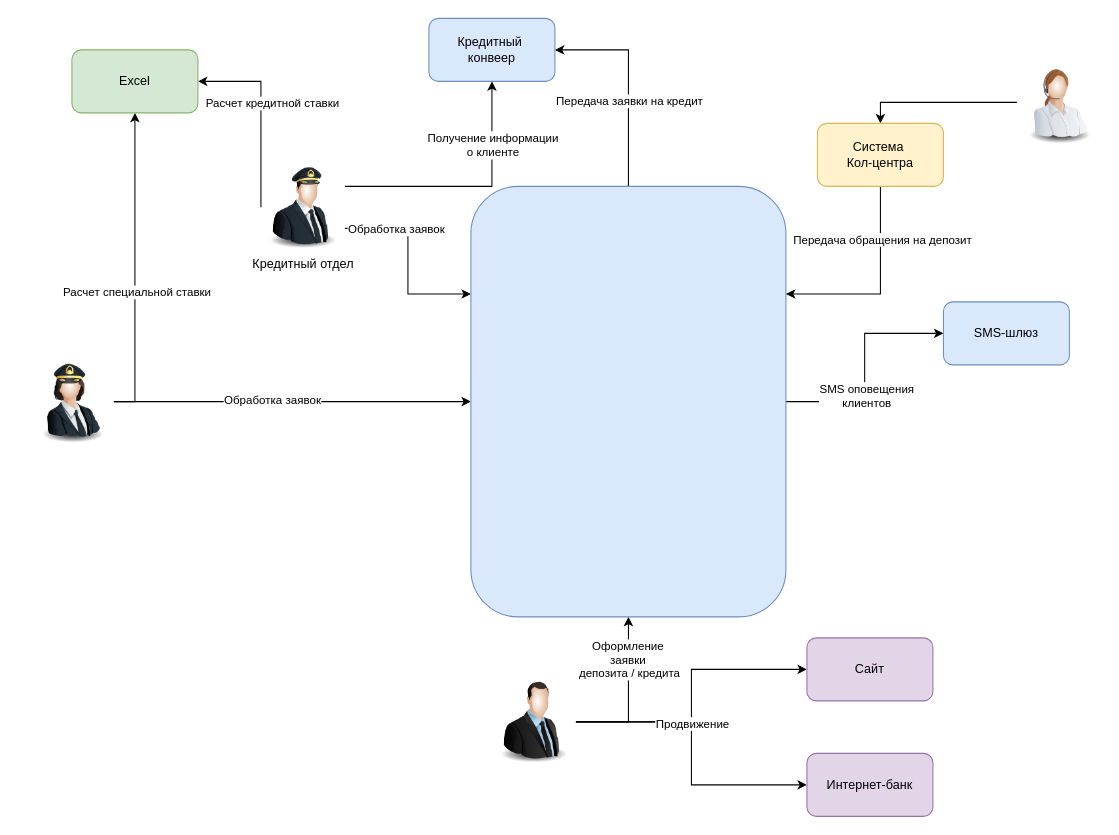
Image size: 1119x835. Some labels were removed from this diagram. Each missing label, with the box of its shape:
ABC: (470, 185, 786, 617)
Депозитный отдел: (29, 359, 113, 443)
Кол-центр: (1016, 60, 1100, 144)
Менеджеры фронт-офиса: (491, 679, 575, 763)
